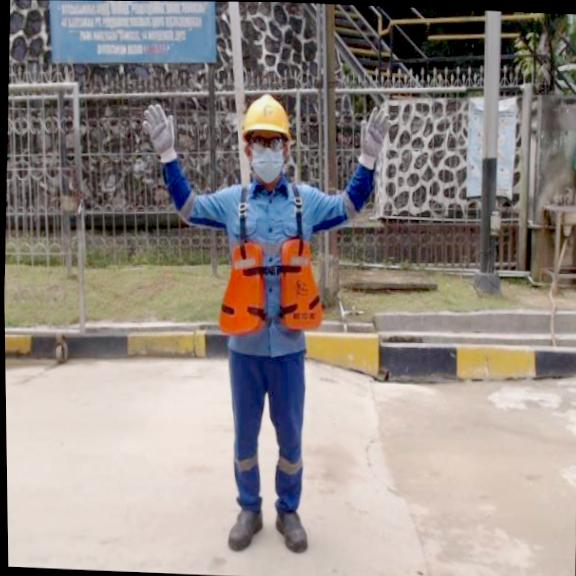safety_vest: (212, 232, 328, 342)
